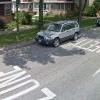Car: (34, 17, 81, 48)
